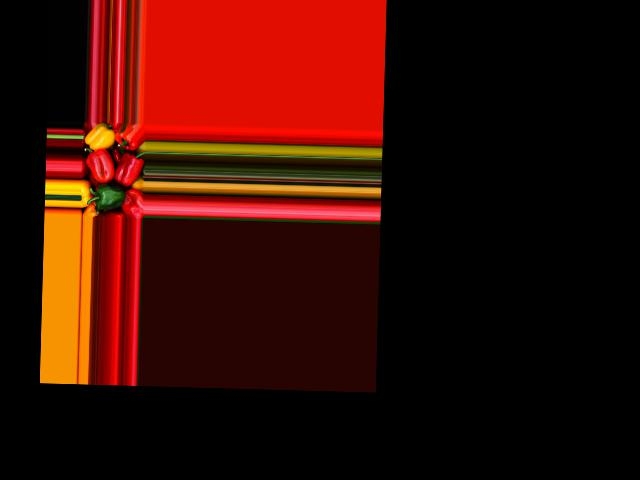bell_pepper: (83, 122, 118, 152)
